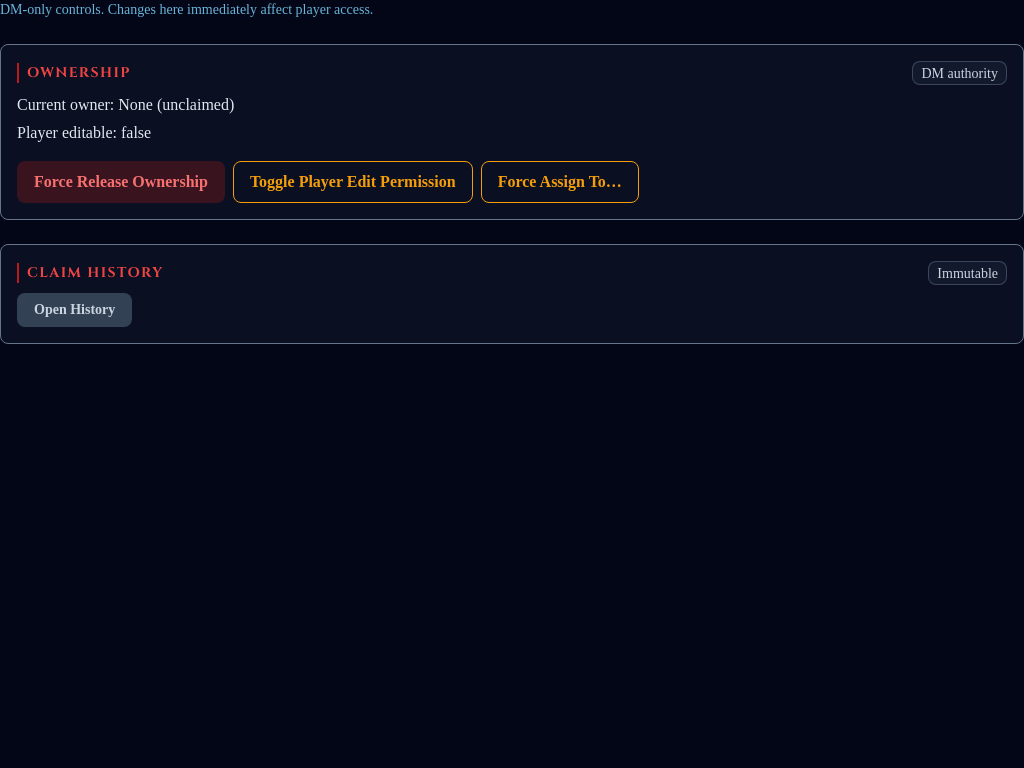
Test case: AdminTab Force Assign › opens the player picker when Force Assign To… is clicked
Click the button "Force Assign To…": point(560, 182) [481,161,639,203]
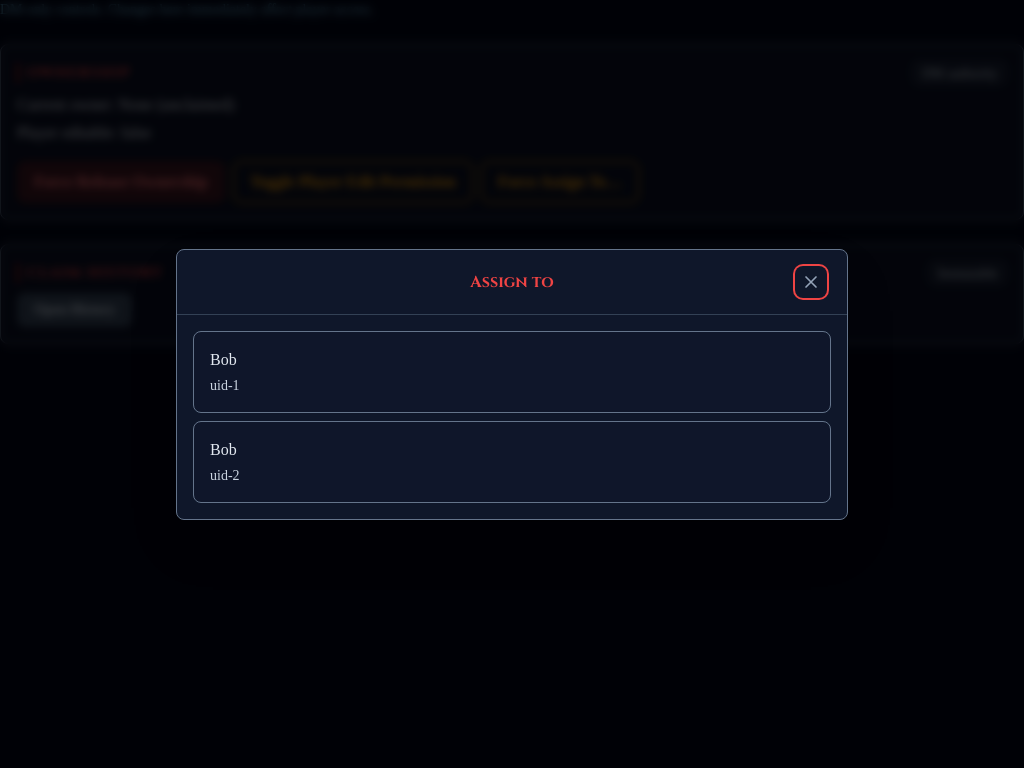
Expected: the heading "Assign to" is shown, [470,270,554,292]
